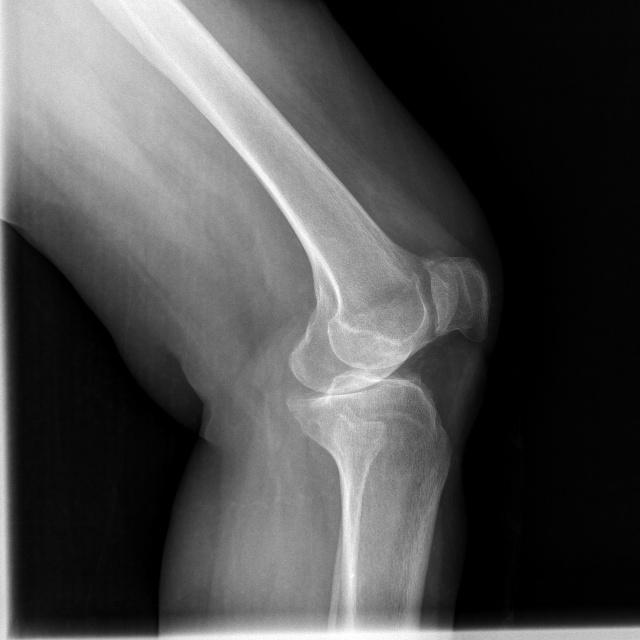Knee: (286, 250, 489, 449)
